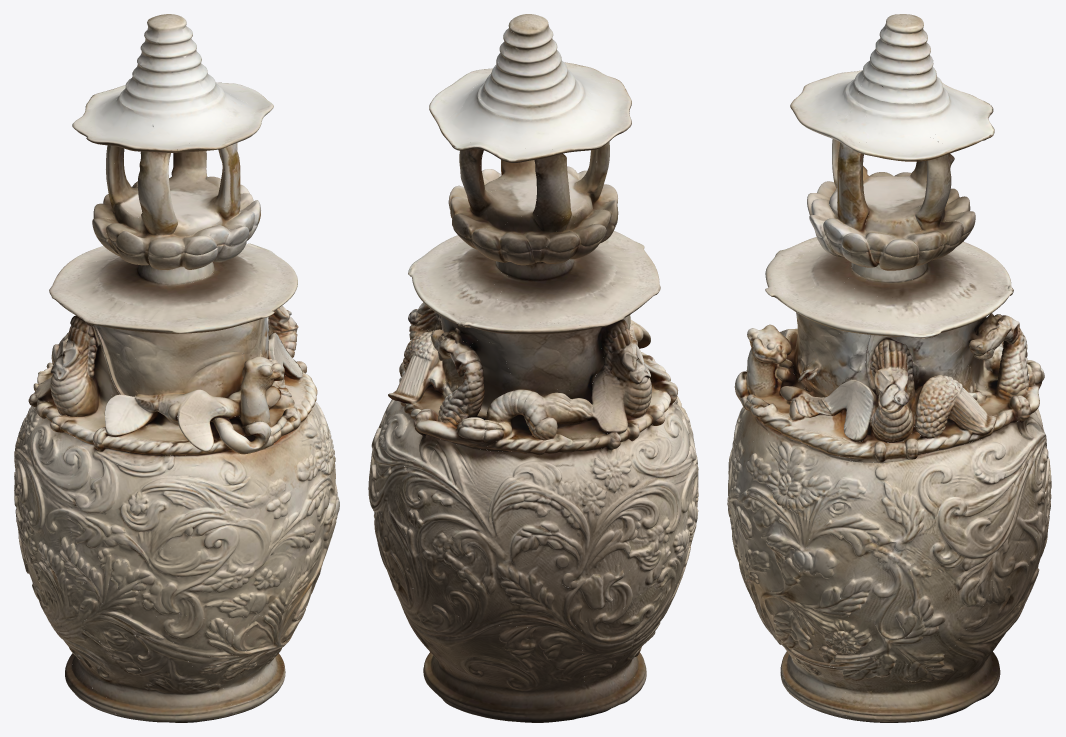
The model's file is song-qingbai-soul-jar.glb.
The picture shows the model from 3 angles, left to right: view 1: azimuth 30°, elevation 25°; view 2: azimuth 150°, elevation 25°; view 3: azimuth 270°, elevation 25°; orthographic projection.
Parts seen in each view (by area): view 1: tripo_node_7784aa65-b2df-49f1-b86d-76476407b237; view 2: tripo_node_7784aa65-b2df-49f1-b86d-76476407b237; view 3: tripo_node_7784aa65-b2df-49f1-b86d-76476407b237.
Boxes of the visible parts, x1,y1,x2,y2 form: tripo_node_7784aa65-b2df-49f1-b86d-76476407b237: [14, 14, 339, 722]; tripo_node_7784aa65-b2df-49f1-b86d-76476407b237: [368, 14, 698, 722]; tripo_node_7784aa65-b2df-49f1-b86d-76476407b237: [727, 14, 1051, 722].
Bounding box in the file's own units: 0.4377 × 0.9787 × 0.4363.
Materials: 1 (1 with a texture image).
